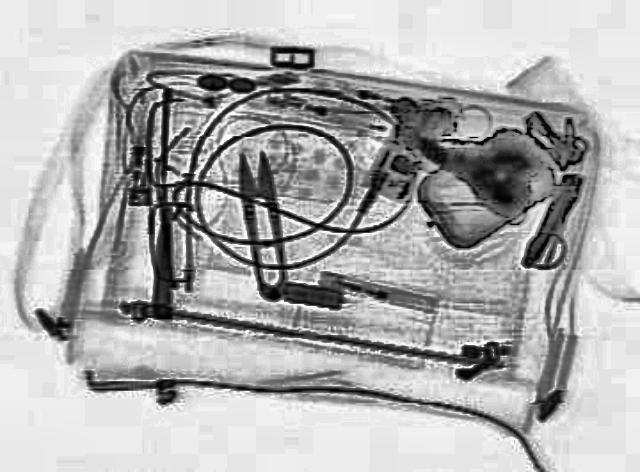Scissors: (229, 148, 293, 300)
